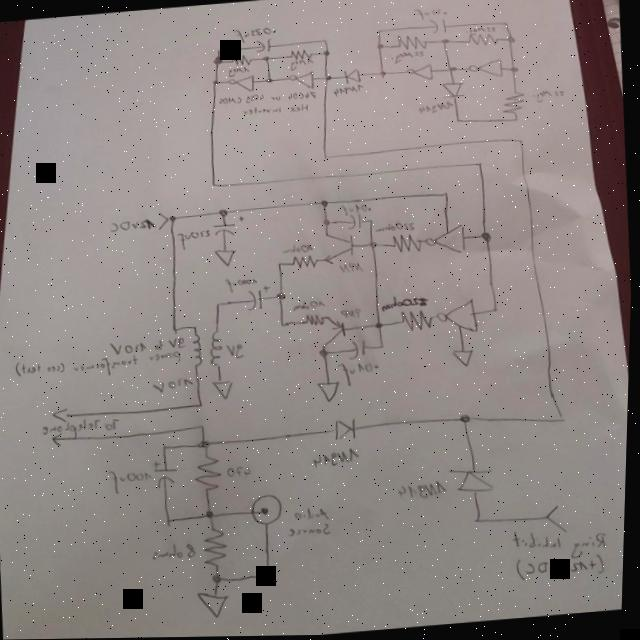capacitor: (155, 457, 183, 489), (213, 215, 247, 236), (247, 285, 273, 312), (352, 339, 372, 360), (429, 18, 448, 36), (254, 38, 274, 54), (348, 213, 366, 230)
diode: (450, 466, 499, 497), (334, 417, 362, 443), (440, 80, 468, 100), (342, 69, 363, 85)
ground: (200, 590, 236, 621), (319, 379, 345, 404), (213, 378, 239, 401), (452, 348, 478, 370), (214, 248, 241, 268)
junction: (213, 572, 229, 585), (200, 438, 214, 450), (481, 231, 494, 243), (207, 508, 220, 519), (475, 515, 488, 526), (461, 414, 474, 425), (319, 348, 332, 358), (510, 65, 521, 75), (369, 240, 380, 250), (219, 208, 231, 217), (559, 416, 571, 425), (277, 292, 289, 301), (507, 35, 517, 45), (168, 517, 178, 527), (200, 422, 210, 432), (267, 570, 278, 579), (321, 199, 332, 208), (446, 65, 457, 74), (214, 56, 225, 65), (376, 322, 386, 331), (199, 400, 209, 409), (324, 218, 333, 227), (380, 70, 388, 79), (442, 38, 450, 46), (266, 76, 274, 84), (216, 301, 224, 309), (443, 191, 451, 199), (263, 55, 271, 63), (170, 214, 178, 222), (455, 118, 464, 125), (212, 79, 220, 86), (282, 321, 290, 328), (174, 326, 182, 333), (494, 308, 502, 315), (377, 43, 384, 50), (164, 444, 172, 450), (518, 138, 526, 144), (323, 51, 330, 57), (326, 76, 333, 82), (478, 162, 485, 168), (213, 181, 219, 187), (324, 155, 330, 161), (504, 21, 510, 27), (217, 47, 223, 53), (279, 262, 285, 267), (381, 345, 387, 350), (377, 29, 383, 34), (323, 39, 329, 44), (514, 118, 520, 123), (195, 325, 200, 329), (371, 219, 375, 223)
resistor: (204, 525, 234, 569), (195, 453, 227, 494), (402, 308, 436, 333), (502, 91, 529, 116), (393, 233, 424, 254), (395, 34, 429, 52), (467, 33, 500, 48), (293, 254, 320, 270), (230, 53, 254, 67), (306, 313, 328, 327), (290, 48, 313, 61)
terminal: (252, 493, 288, 526), (547, 504, 574, 536), (54, 407, 73, 423), (157, 211, 172, 231), (54, 431, 67, 447)
text: (16, 347, 186, 384), (514, 523, 613, 565), (514, 551, 615, 583), (43, 415, 123, 443), (219, 89, 318, 107), (110, 336, 190, 356), (338, 358, 385, 389), (110, 467, 157, 495), (400, 479, 452, 502), (240, 102, 312, 118), (153, 540, 200, 563), (314, 448, 364, 469), (381, 293, 433, 313), (232, 25, 277, 45), (178, 228, 214, 251), (154, 376, 198, 394), (110, 217, 159, 233), (290, 522, 336, 539), (224, 275, 263, 295), (296, 504, 335, 523), (374, 220, 420, 235), (530, 88, 568, 105), (339, 201, 375, 217), (414, 6, 449, 22), (390, 50, 427, 65), (419, 101, 456, 115), (282, 242, 316, 256), (294, 299, 329, 312), (228, 464, 257, 479), (332, 84, 365, 97), (227, 342, 248, 360), (290, 58, 316, 72), (340, 306, 365, 320), (467, 25, 497, 36), (341, 261, 366, 274), (228, 66, 251, 78)
transformer: (191, 330, 228, 369)
transistor: (324, 231, 359, 266), (320, 313, 351, 348)
